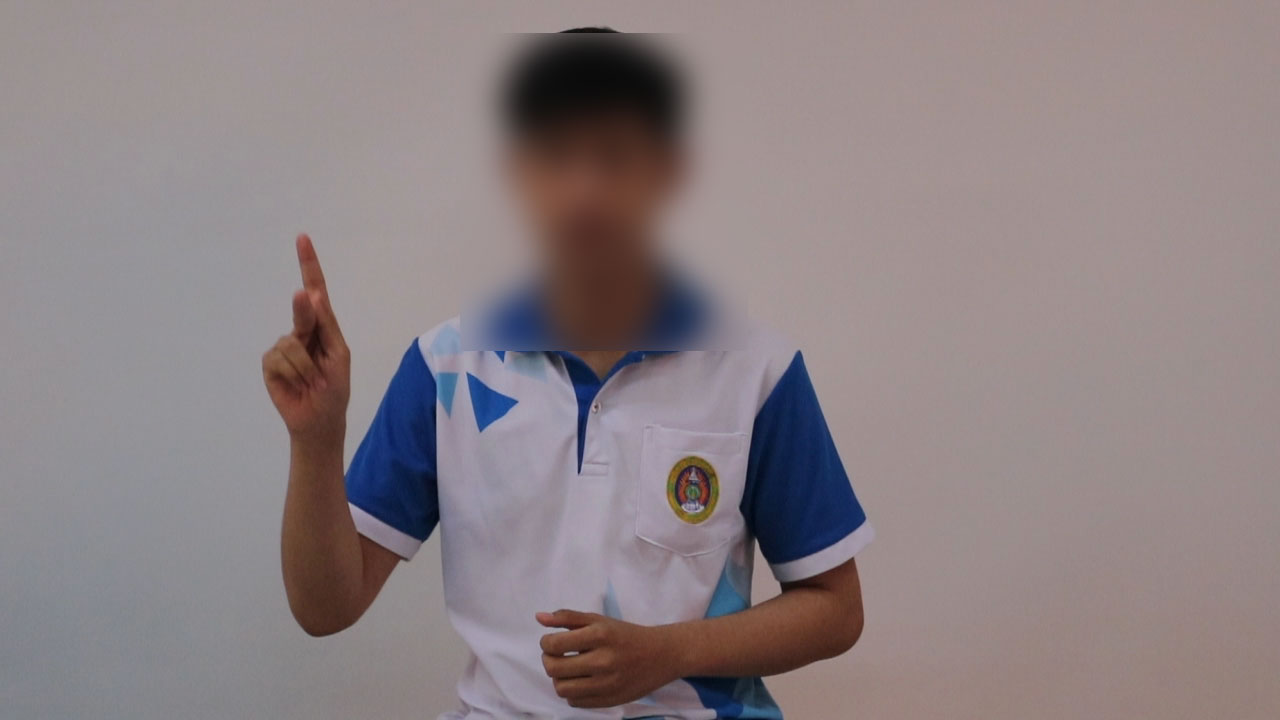ko: (213, 203, 432, 466)
